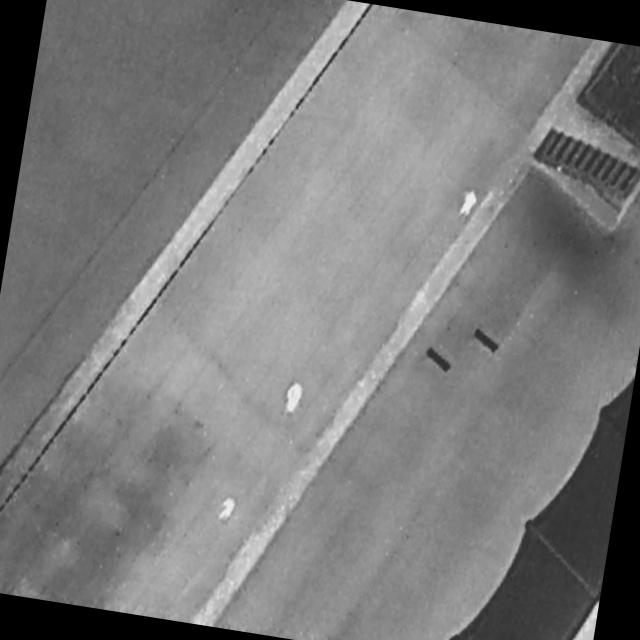person: (457, 187, 483, 225), (281, 379, 307, 417), (216, 495, 239, 527)
